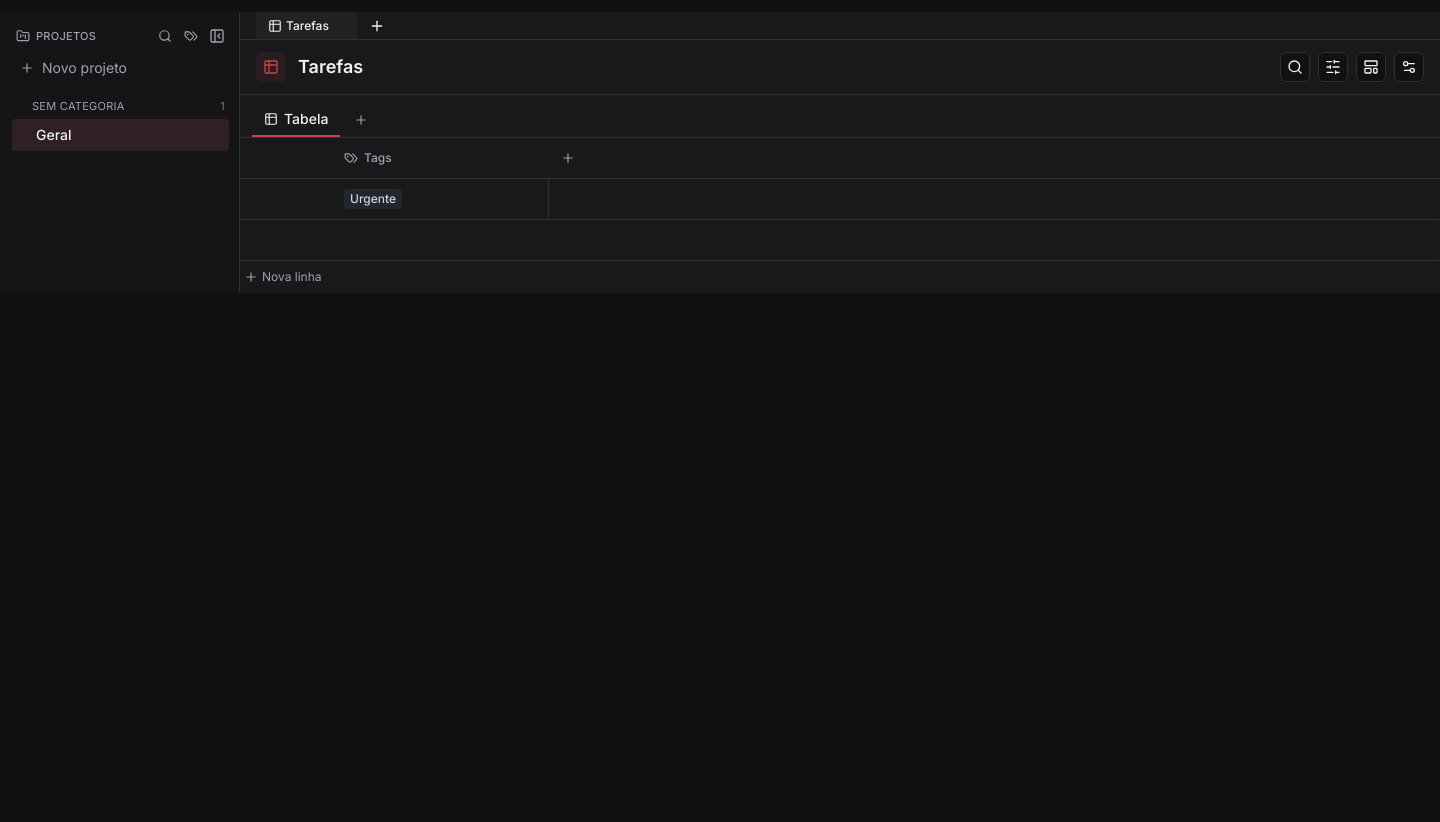
Test case: DatabaseView — estado vazio › renomeia a opção pelo popover de cor no menu da célula
The image size is (1440, 822).
Click the button "Urgente" at (424, 199), box [340, 185, 508, 213]
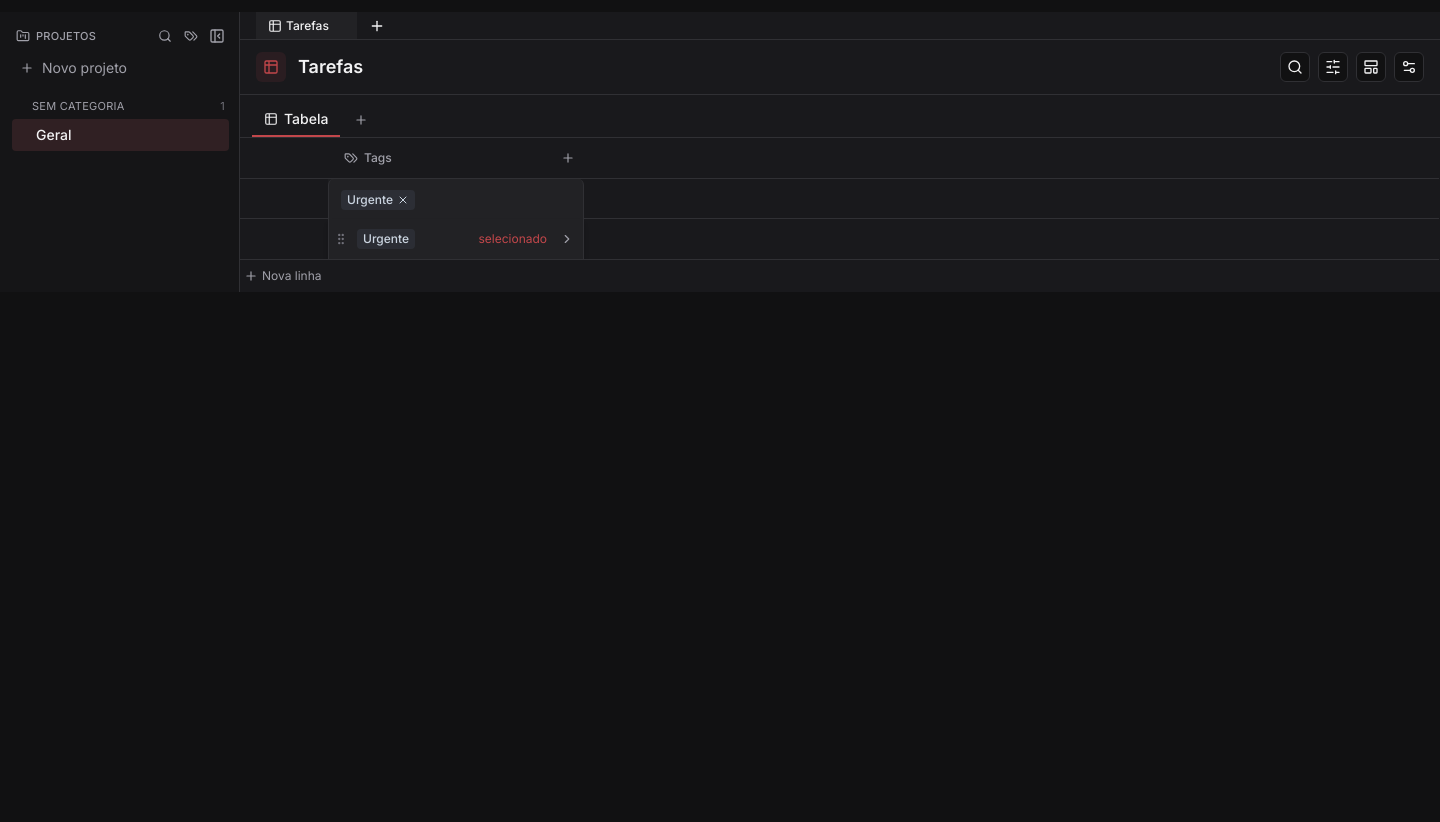
# A seta da opção abre o popover com o campo de nome e o botão de excluir.
Click the button named "Cor da opção Urgente" at (567, 239), box [555, 227, 579, 251]
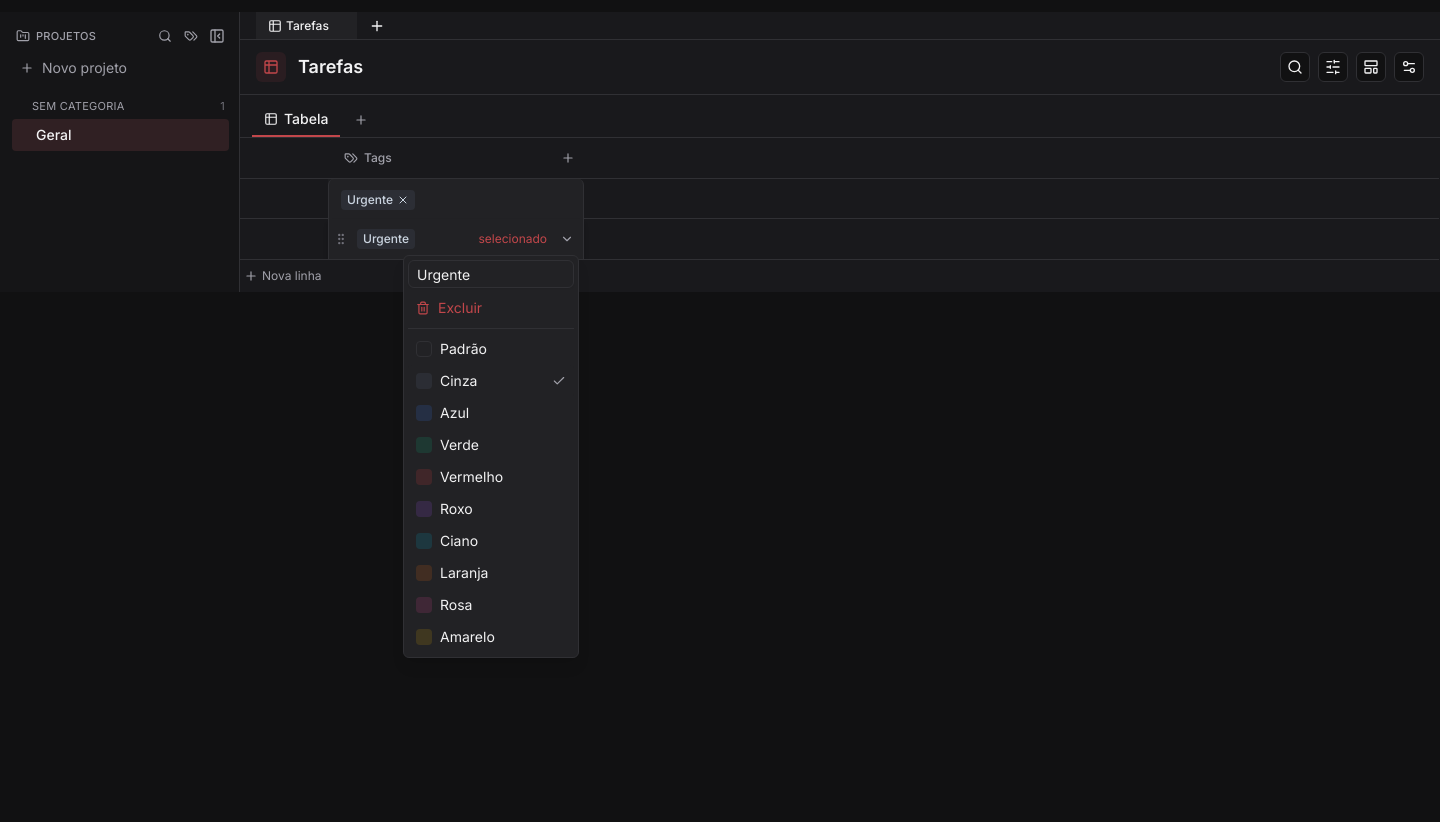
Expected: the field named "Nome da opção Urgente" holds "Urgente"
Expected: the button with aria-label "Excluir opção Urgente" is shown, [408, 292, 574, 324]
Replace the text in the field named "Nome da opção Urgente" with "Urgentíssimo" at (491, 274), box [408, 260, 574, 288]
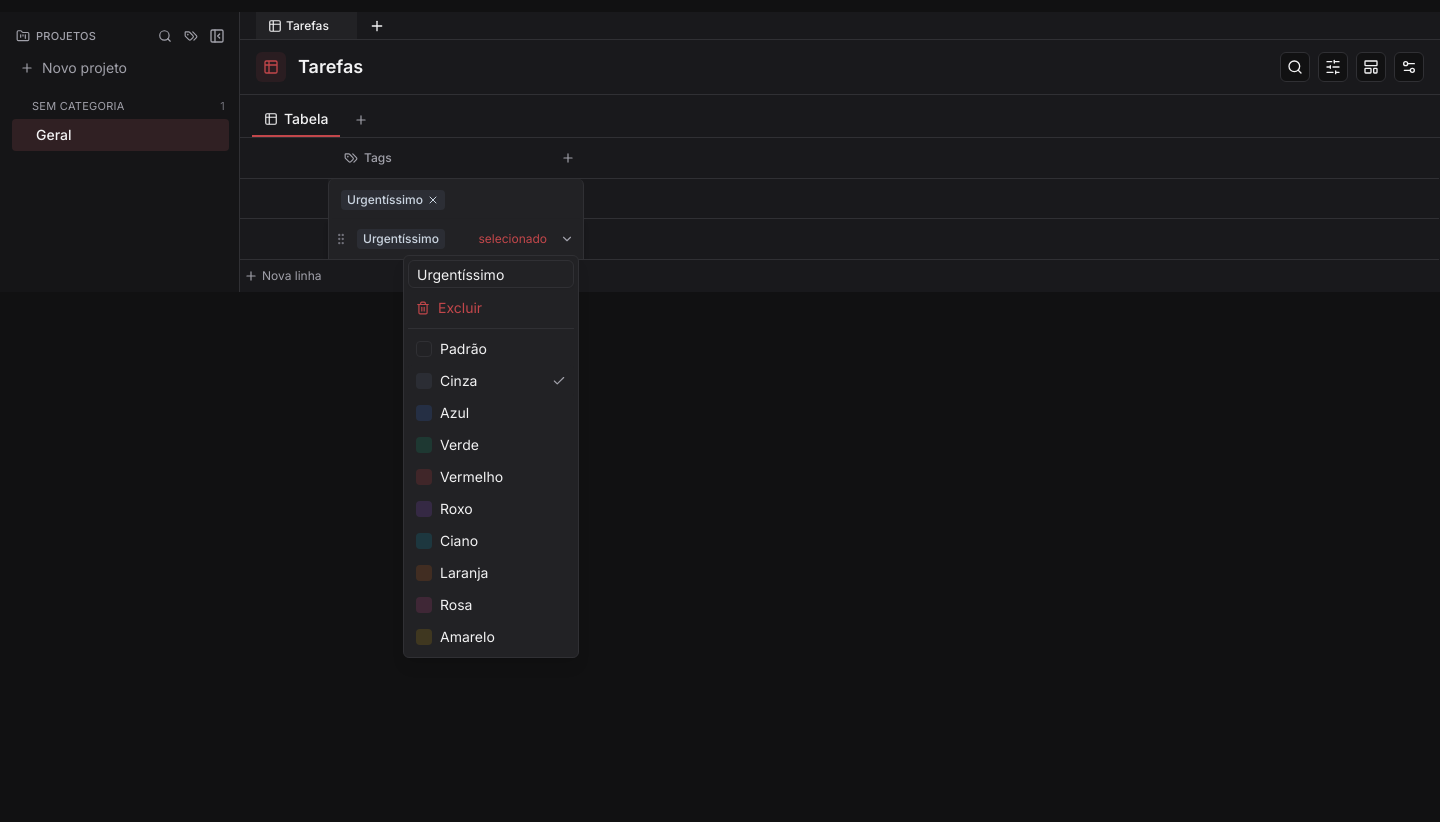
Expected: the text "Urgentíssimo" is shown, [347, 192, 423, 208]
